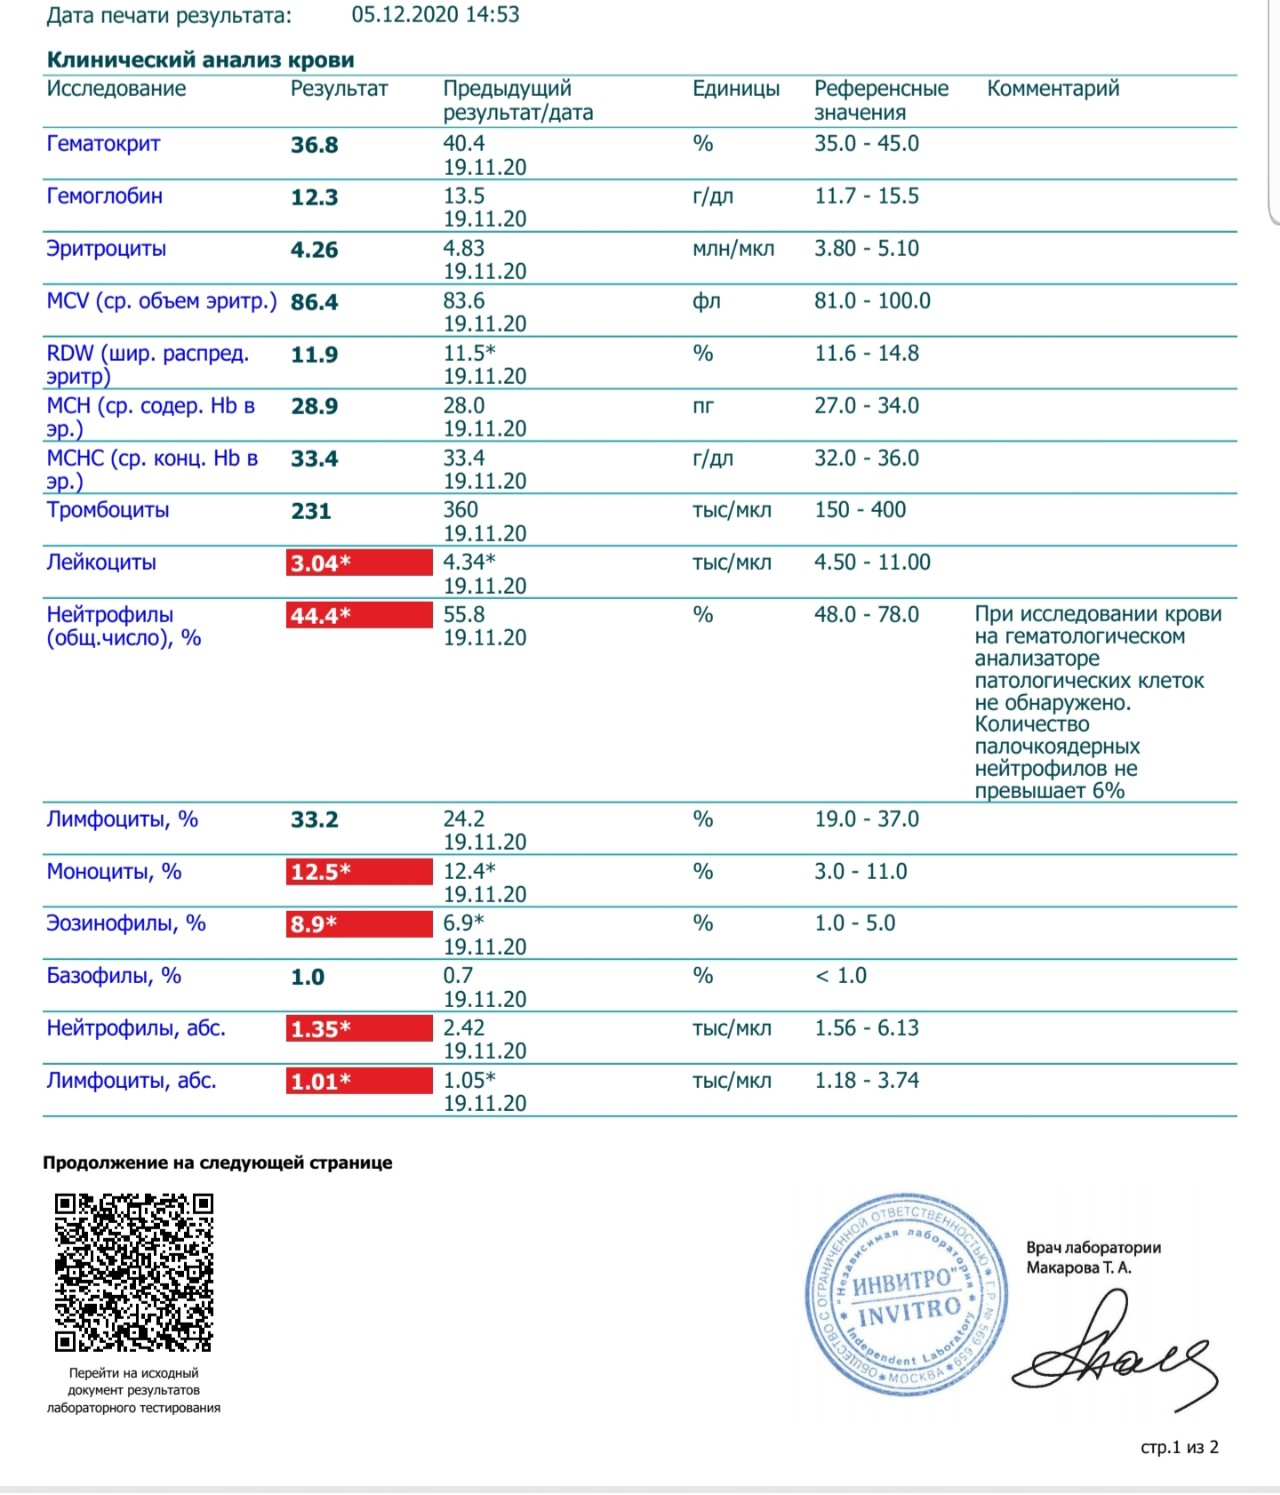column: (974, 75, 1222, 1116), (46, 75, 277, 1116), (442, 75, 594, 1116), (813, 75, 950, 1116), (290, 75, 390, 1116), (692, 75, 780, 1116)
